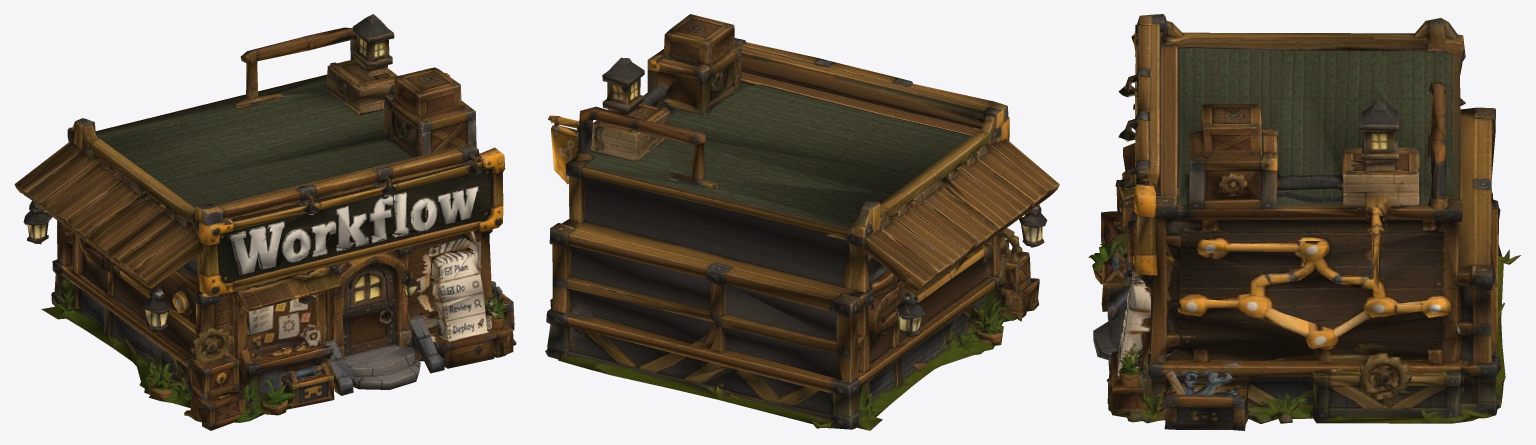
File: skill-workflow.glb
3 views of the same model, side by side, from view 1: azimuth 30°, elevation 25°; view 2: azimuth 150°, elevation 25°; view 3: azimuth 270°, elevation 25° (orthographic). The views are drawn at different scales.
Visible parts, largest first — view 1: Mesh1.0; view 2: Mesh1.0; view 3: Mesh1.0.
Part boxes in pixels (x1,y1,x2,y2): Mesh1.0: [14, 14, 516, 430]; Mesh1.0: [545, 14, 1059, 430]; Mesh1.0: [1088, 14, 1520, 430].
Size of the model in its own units: 1.9 by 1.17 by 1.53.
Materials: 1 (1 with a texture image).
